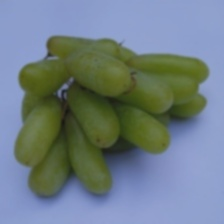grapes: (29, 18, 180, 195)
